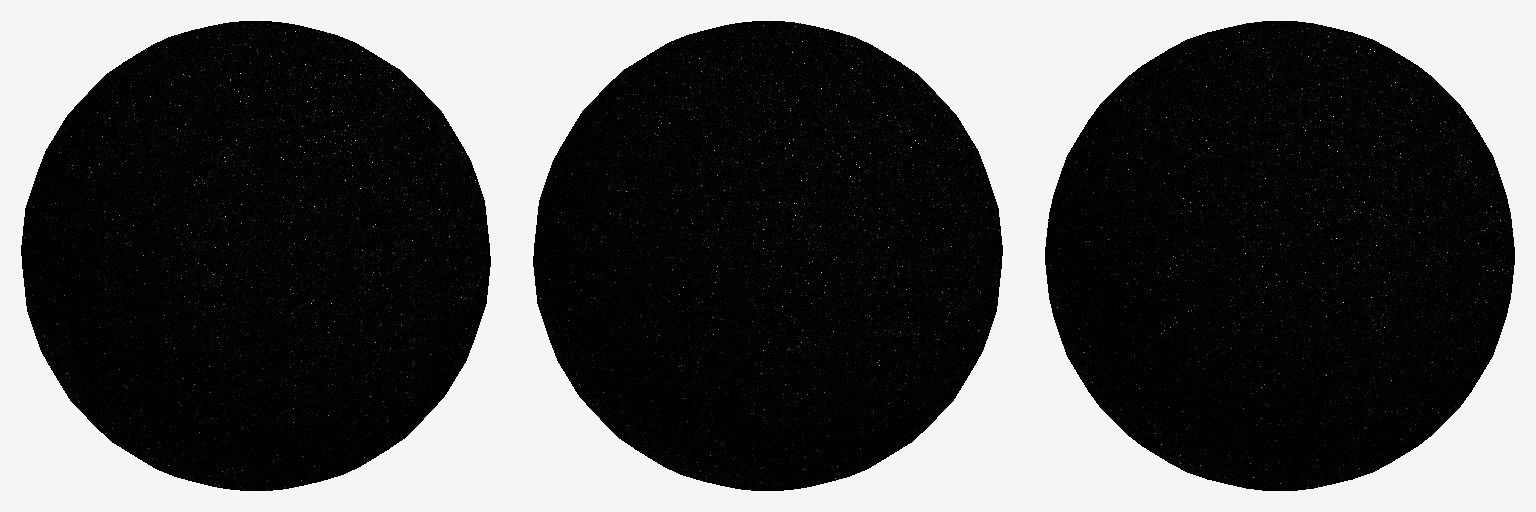
3 renders of one model, left to right at view 1: azimuth 30°, elevation 25°; view 2: azimuth 150°, elevation 25°; view 3: azimuth 270°, elevation 25°, orthographic.
Visible parts, largest first — view 1: Sphere; view 2: Sphere; view 3: Sphere.
Boxes of the visible parts, box(x1,y1,x2,y2) form: Sphere: box(21, 21, 490, 490); Sphere: box(533, 21, 1002, 490); Sphere: box(1045, 21, 1514, 490).
Bounding box in the file's own units: 79.68 × 78.15 × 79.68.
1 materials, 1 textured.